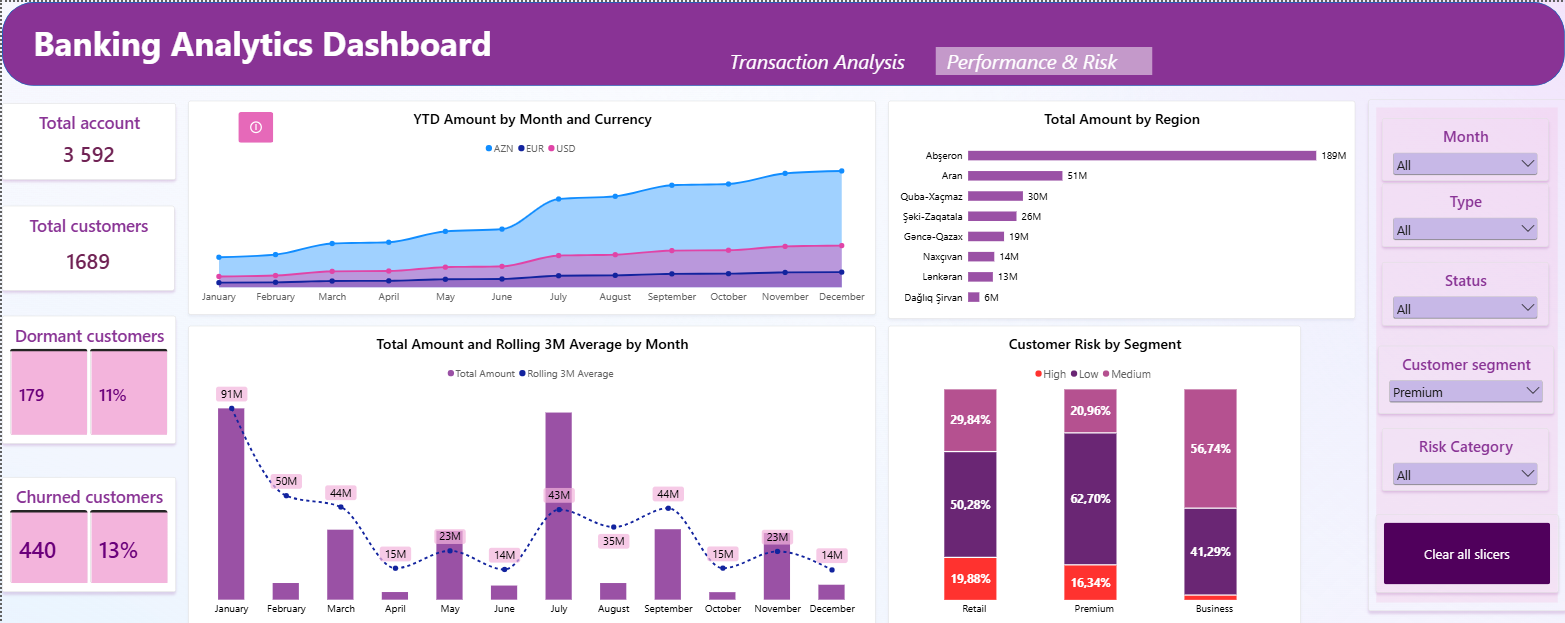

The page's visual inventory and layout, read from the dashboard file:
{"tool":"powerbi","page":{"name":"Performance & Risk","canvas":[2500,1000],"ordinal":1},"visuals":[{"type":"areaChart","title":"YTD Amount by Month and Currency","fields":{"Category":["Calendar table.Month name"],"Y":["My calculations.YTD Amount"],"Series":["Dim_Accounts.Currency"]},"box":[297.5,157.5,1100,342.5],"z":0},{"type":"actionButton","box":[377,176.2,56.4,49.3],"z":1000},{"type":"shape","box":[2185,155,316.7,818.3],"z":2000},{"type":"shape","box":[0,0,2500.4,134.1],"z":3000},{"type":"textbox","box":[50,28.3,840,88.3],"z":4000},{"type":"slicer","title":"Month","fields":{"Values":["Calendar table.Month name"]},"box":[2207.5,185,266.7,100],"z":5000},{"type":"slicer","title":"Type","fields":{"Values":["Fact_Transactions.TransactionType"]},"box":[2207.5,290,266.7,101.7],"z":6000},{"type":"slicer","title":"Status","fields":{"Values":["Dim_Accounts.Status"]},"box":[2210,416,266.7,101.7],"z":7000},{"type":"textbox","box":[1163.3,71.7,311.7,45],"z":8000},{"type":"slicer","title":"Customer segment","fields":{"Values":["Dim_Customers.CustomerSegment"]},"box":[2202.5,550,281,109.1],"z":9000},{"type":"textbox","box":[1493.3,71.7,346.7,45],"z":10000},{"type":"lineStackedColumnComboChart","title":"Total Amount and Rolling 3M Average by Month ","fields":{"Category":["Calendar table.Month name"],"Y":["My calculations.Total Amount"],"Y2":["My calculations.Rolling 3M Average"]},"box":[297.5,517.5,1100,482.5],"z":11000},{"type":"hundredPercentStackedColumnChart","title":"Customer Risk by Segment","fields":{"Category":["Dim_Customers.CustomerSegment"],"Y":["My calculations.Total customers"],"Series":["Dim_Customers.RiskCategory"]},"box":[1417.5,517.5,660,482.5],"z":12000},{"type":"actionButton","box":[1162.7,74,290.7,44],"z":13000},{"type":"barChart","fields":{"Category":["Dim_Branches.Region","Dim_Branches.City"],"Y":["My calculations.Total Amount"]},"box":[1417.5,157.5,747,348.8],"z":14000},{"type":"actionButton","box":[2197.5,820,292.4,125.1],"z":15000},{"type":"cardVisual","title":"Churned customers","fields":{"Data":["My calculations.Churn account","My calculations.Churn Rate"]},"box":[0,760,278.3,184.2],"z":16000},{"type":"card","title":"Total account","fields":{"Values":["My calculations.Total account"]},"box":[0,162.5,278.3,122.1],"z":17000},{"type":"slicer","title":"Risk Category","fields":{"Values":["Dim_Customers.RiskCategory"]},"box":[2207.5,682.5,266.7,100],"z":18000},{"type":"card","title":"Total customers","fields":{"Values":["My calculations.Total customers"]},"box":[0,325,276.3,136.1],"z":19000},{"type":"cardVisual","title":"Dormant customers","fields":{"Data":["My calculations.Dormant Accounts","My calculations.Dormant rate %"]},"box":[0,502.5,278.3,205],"z":20000}]}

Visuals, with their boxes in screenshot pixels (x1, y1, x2, y2), scaled from the page's 2500x1000 canvas onto the 1565x623 screenshot:
"YTD Amount by Month and Currency" areaChart: Rect(186, 98, 875, 312)
actionButton: Rect(236, 110, 271, 140)
shape: Rect(1368, 97, 1564, 606)
shape: Rect(0, 0, 1564, 84)
textbox: Rect(31, 18, 557, 73)
"Month" slicer: Rect(1382, 115, 1549, 178)
"Type" slicer: Rect(1382, 181, 1549, 244)
"Status" slicer: Rect(1383, 259, 1550, 323)
textbox: Rect(728, 45, 923, 73)
"Customer segment" slicer: Rect(1379, 343, 1555, 411)
textbox: Rect(935, 45, 1152, 73)
"Total Amount and Rolling 3M Average by Month " lineStackedColumnComboChart: Rect(186, 322, 875, 622)
"Customer Risk by Segment" hundredPercentStackedColumnChart: Rect(887, 322, 1301, 622)
actionButton: Rect(728, 46, 910, 74)
barChart - Dim_Branches.Region x Dim_Branches.City: Rect(887, 98, 1355, 315)
actionButton: Rect(1376, 511, 1559, 589)
"Churned customers" cardVisual: Rect(0, 473, 174, 588)
"Total account" card: Rect(0, 101, 174, 177)
"Risk Category" slicer: Rect(1382, 425, 1549, 487)
"Total customers" card: Rect(0, 202, 173, 287)
"Dormant customers" cardVisual: Rect(0, 313, 174, 441)
